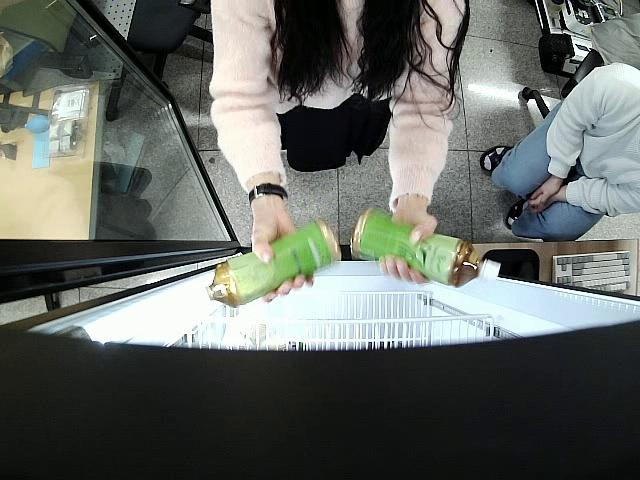00_hand: (251, 201, 315, 301), (379, 205, 438, 287)
19_17cha: (200, 221, 340, 309), (351, 207, 499, 289)
